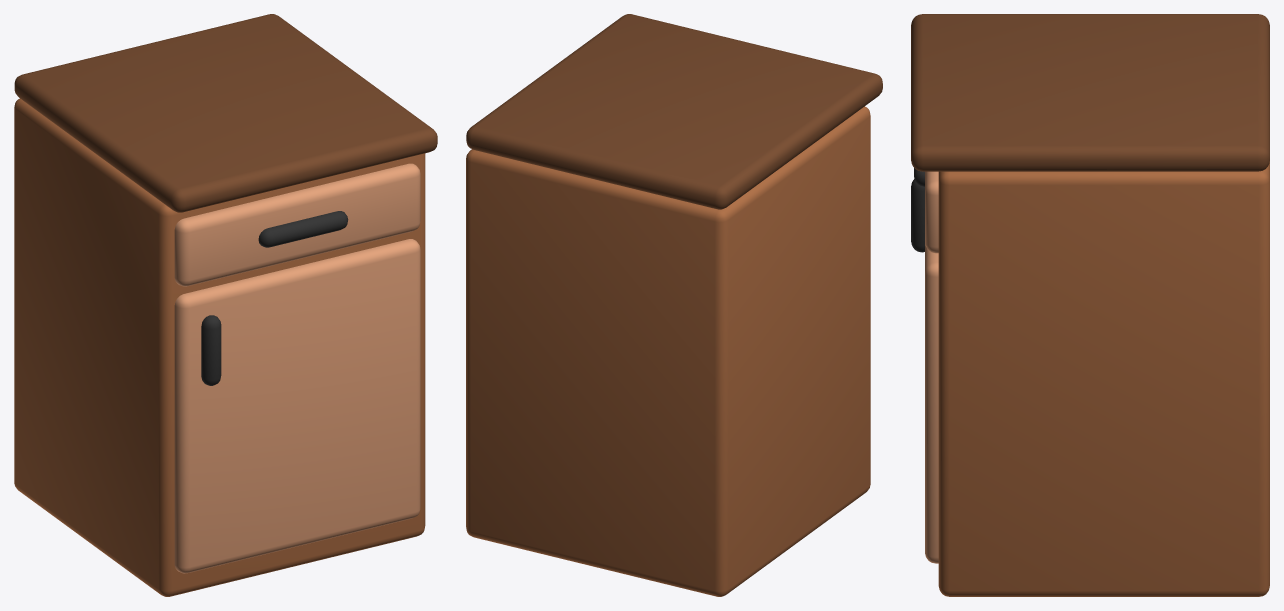
File: tumba_60x60x85_2.glb
The picture shows the model from 3 angles, left to right: view 1: azimuth 30°, elevation 25°; view 2: azimuth 150°, elevation 25°; view 3: azimuth 270°, elevation 25°; orthographic projection. The views are drawn at different scales.
Parts seen in each view (by area): view 1: Cube.034; view 2: Cube.034; view 3: Cube.034.
Boxes of the visible parts, <box> form: Cube.034: <box>14,14,437,596</box>; Cube.034: <box>466,14,882,596</box>; Cube.034: <box>911,14,1269,596</box>.
Bounding box in the file's own units: 0.6 × 0.9 × 0.65.
